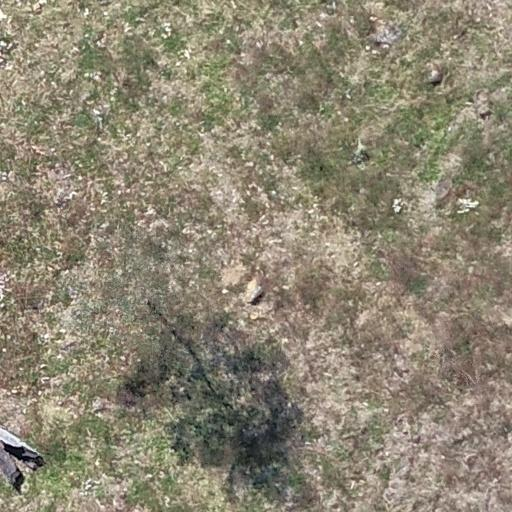stone: (241, 281, 268, 306), (422, 62, 445, 86)
